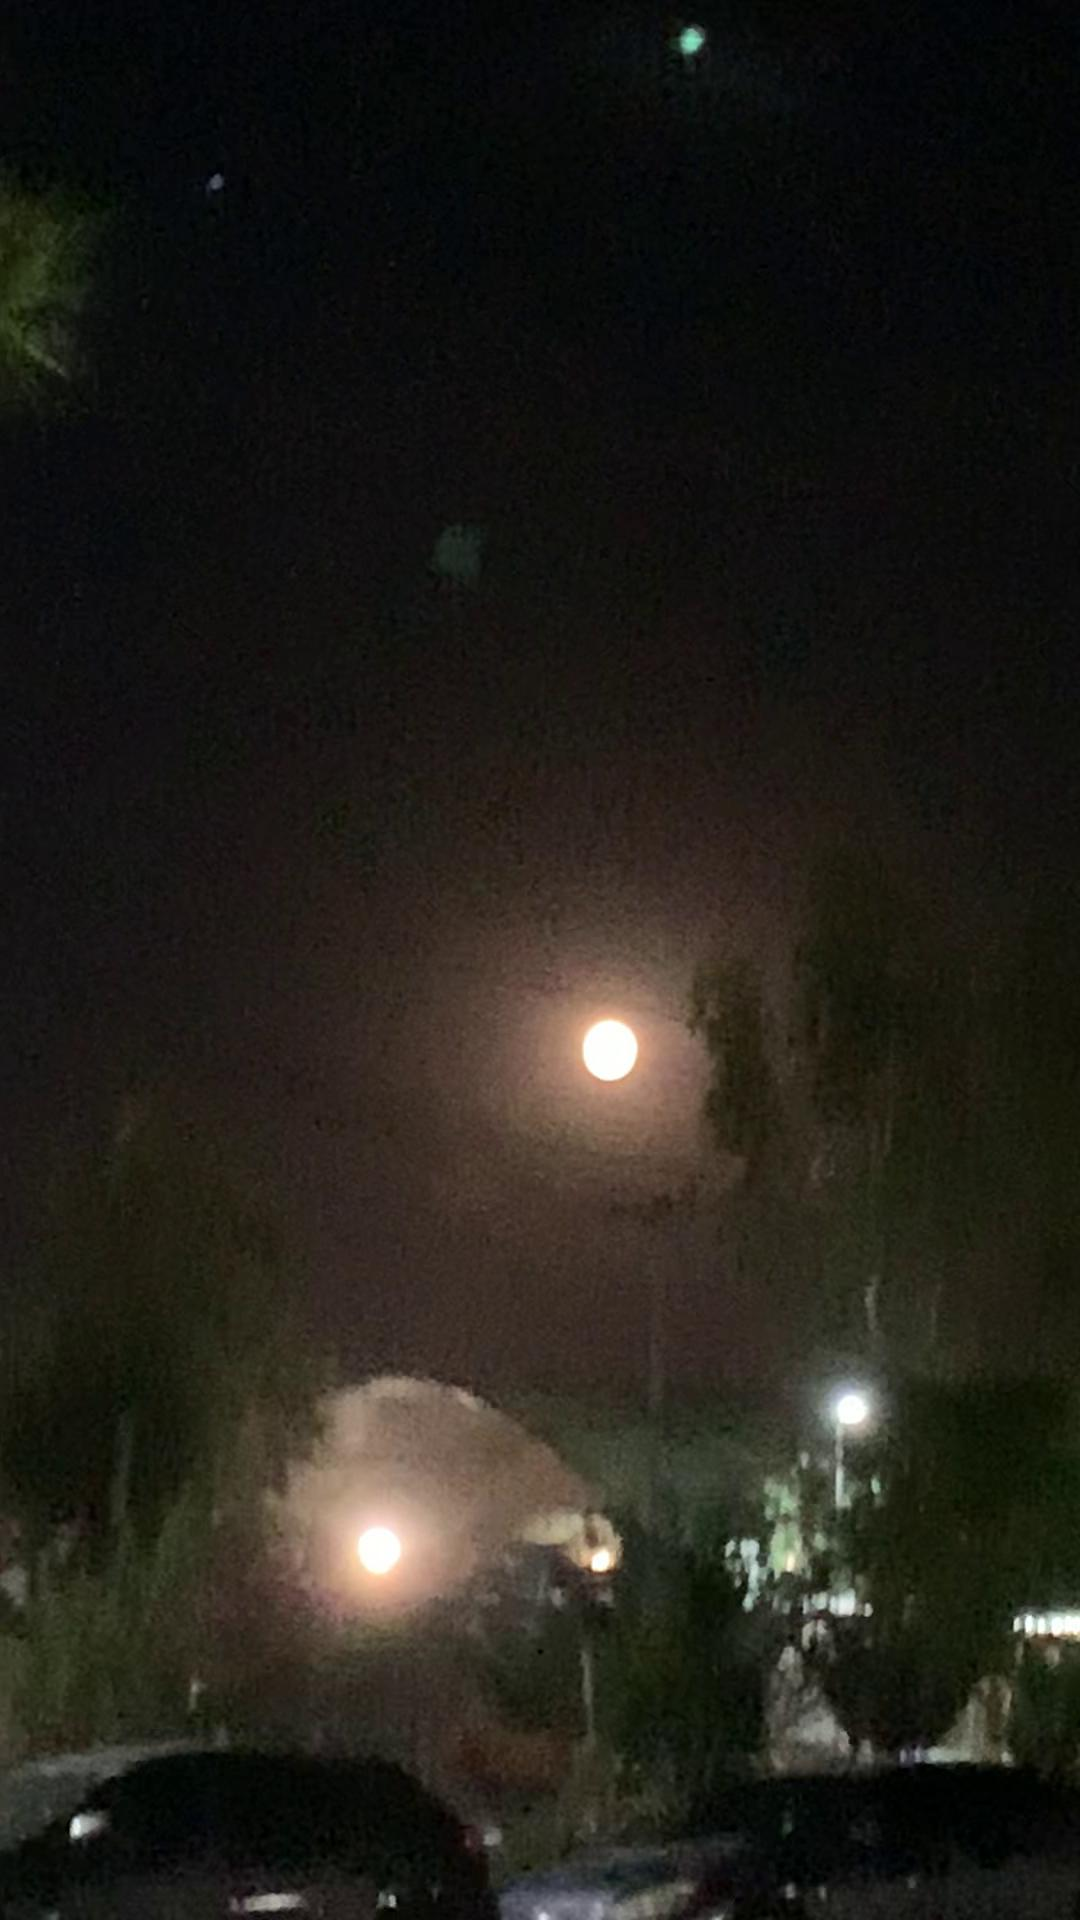moon: (572, 1023, 644, 1096)
